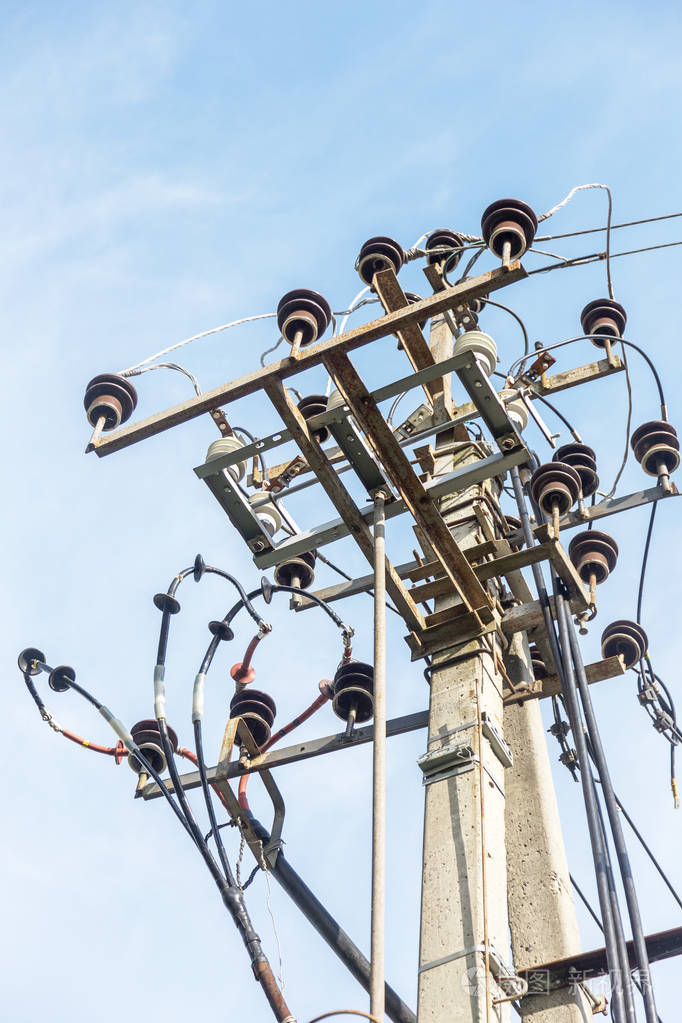insulator: (328, 661, 388, 722), (80, 374, 138, 435), (483, 196, 538, 258), (275, 285, 328, 346), (224, 689, 282, 742), (631, 418, 682, 477), (529, 459, 579, 517), (124, 712, 170, 774), (351, 232, 409, 280), (594, 620, 651, 668), (553, 439, 600, 496), (569, 529, 616, 584), (575, 299, 628, 344), (428, 230, 464, 268), (294, 394, 330, 426)
